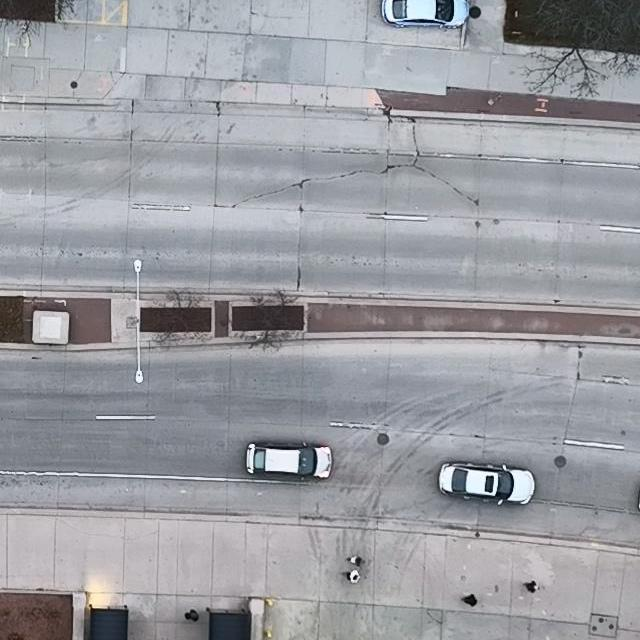car: (438, 461, 536, 506), (244, 442, 332, 479), (380, 0, 470, 28)
